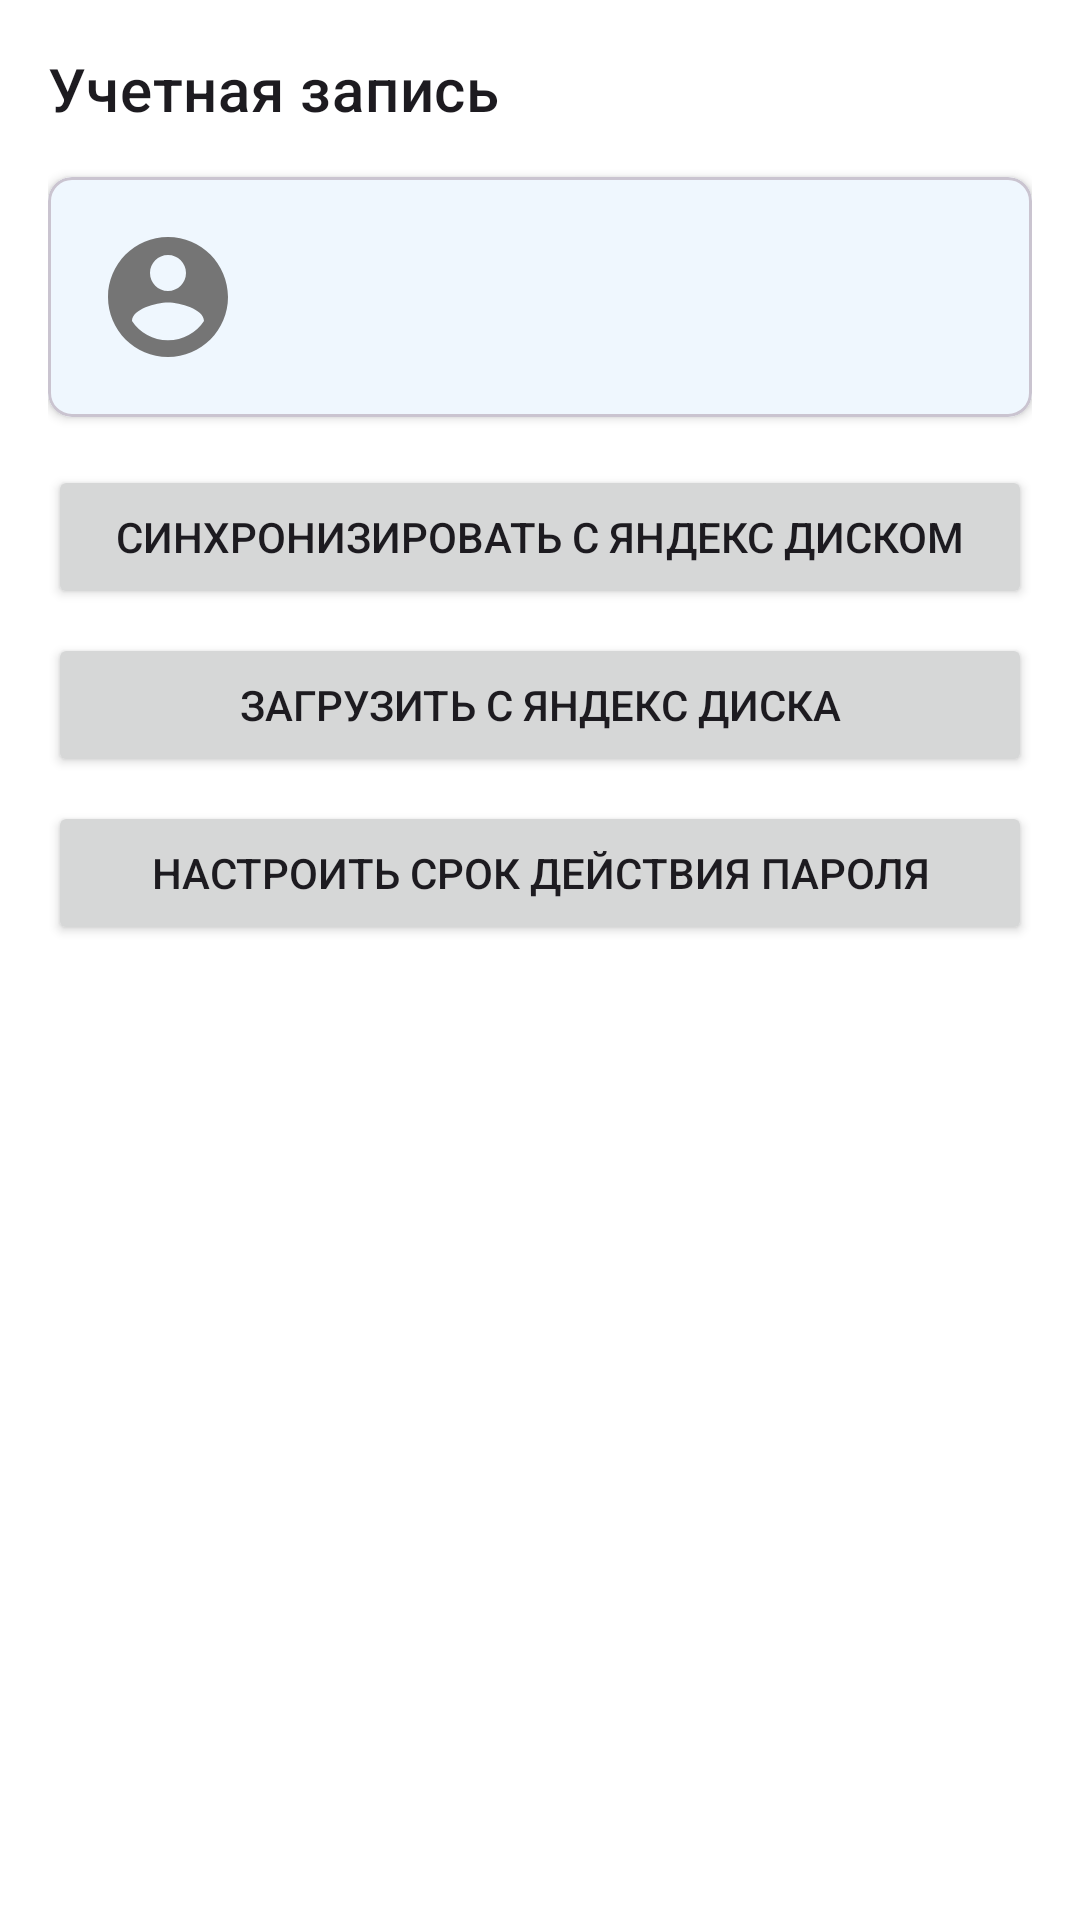

Point at icon controls on the screen. Image size 1080 × 1920, points as (x=x, y=y).
Аватар пользователя: (x=168, y=297)
